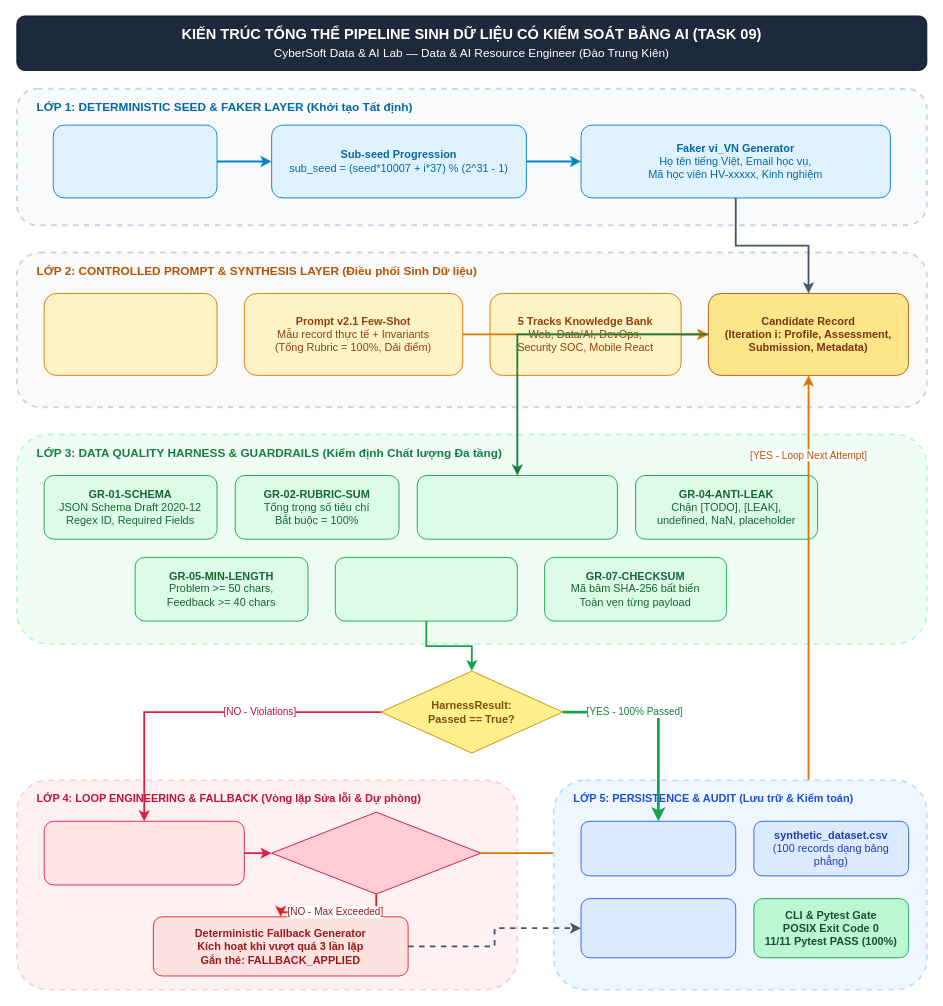
This 943x1006 diagram has some shape labels left out. The centre of each missing label's shape, as x and y in pixels:
"Attempt < MAX_RETRIES? (MAX_RETRIES = 3)" belongs at [376,852].
"Error Feedback Builder Đóng gói rule_id, field, message, corrective_guidance" belongs at [143,852].
"Global Seed (seed = 42)" belongs at [134,161].
"GR-03-SCORE-STATUS PASSED (70-100), FAILED (30-69) ERROR/TIMEOUT (0-29)" belongs at [516,507].
"GR-06-TRACK-ENUM 5 chuyên ngành CyberSoft (Web, AI, DevOps, Sec, Mob)" belongs at [425,588].
"Logs & Summary Audit error_correction_loop.log correction_summary.json" belongs at [658,928].
"synthetic_dataset.json (100 records cấu trúc đầy đủ)" belongs at [658,848].
"System Instructions Vai trò AI Architect, Chống rò rỉ, Cấm placeholder" belongs at [130,334].
